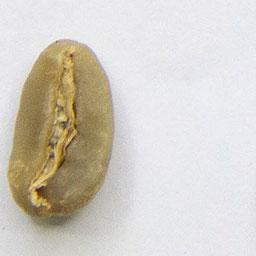longberry: (6, 35, 118, 220)
